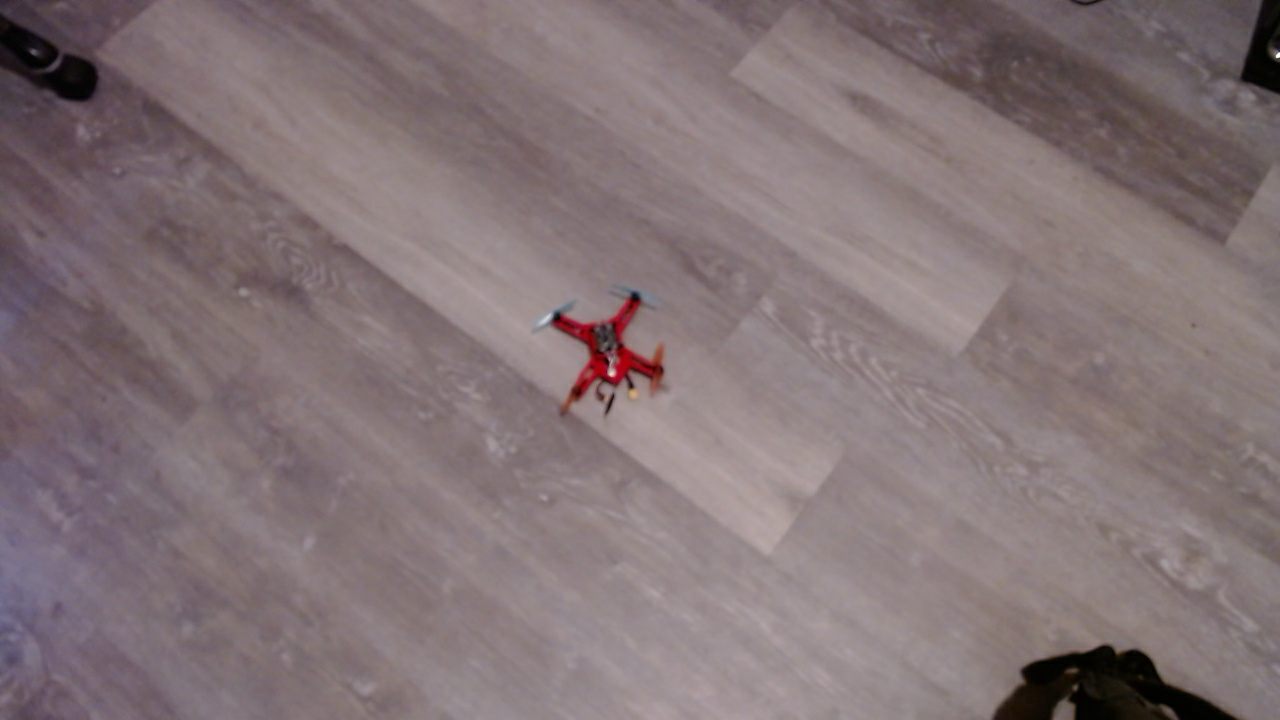crazyflie: (537, 290, 687, 431)
